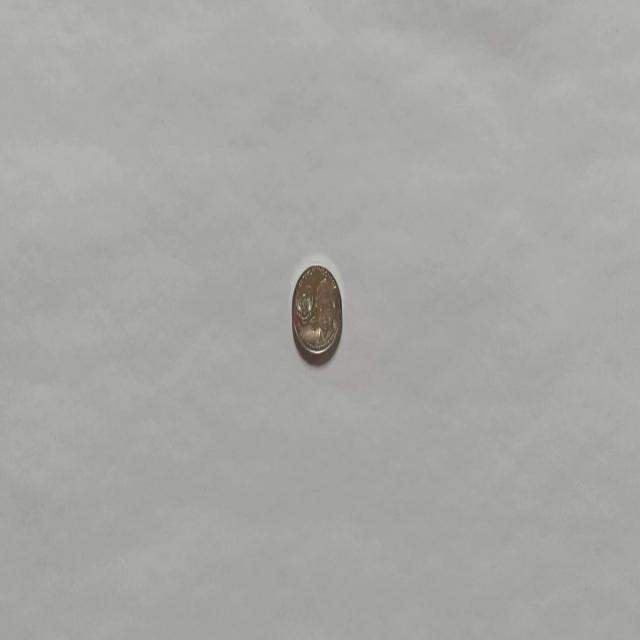dua ratus rupiah: (290, 262, 342, 359)
